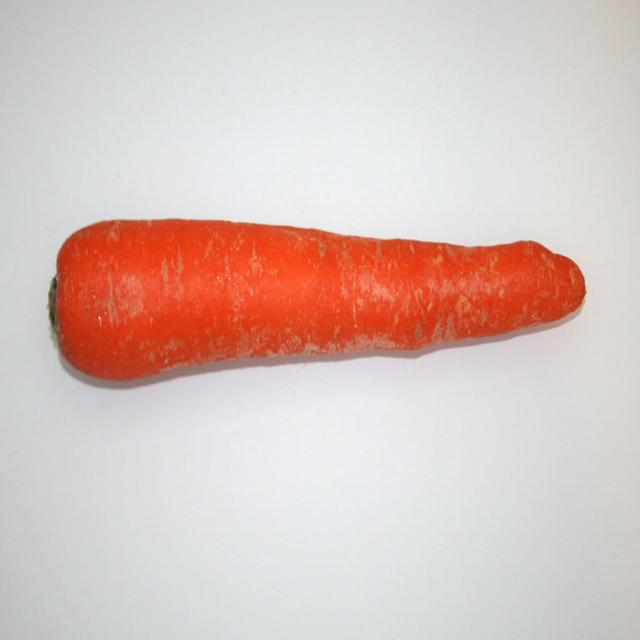Carrot: (57, 223, 593, 385)
